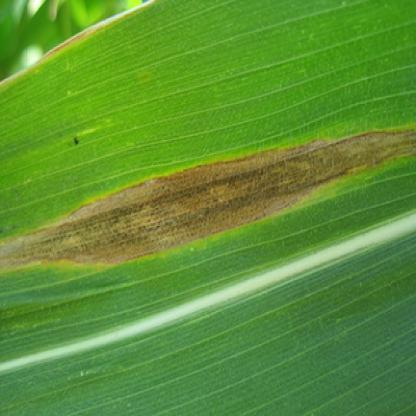Corn leaf blight: (4, 8, 415, 369)
